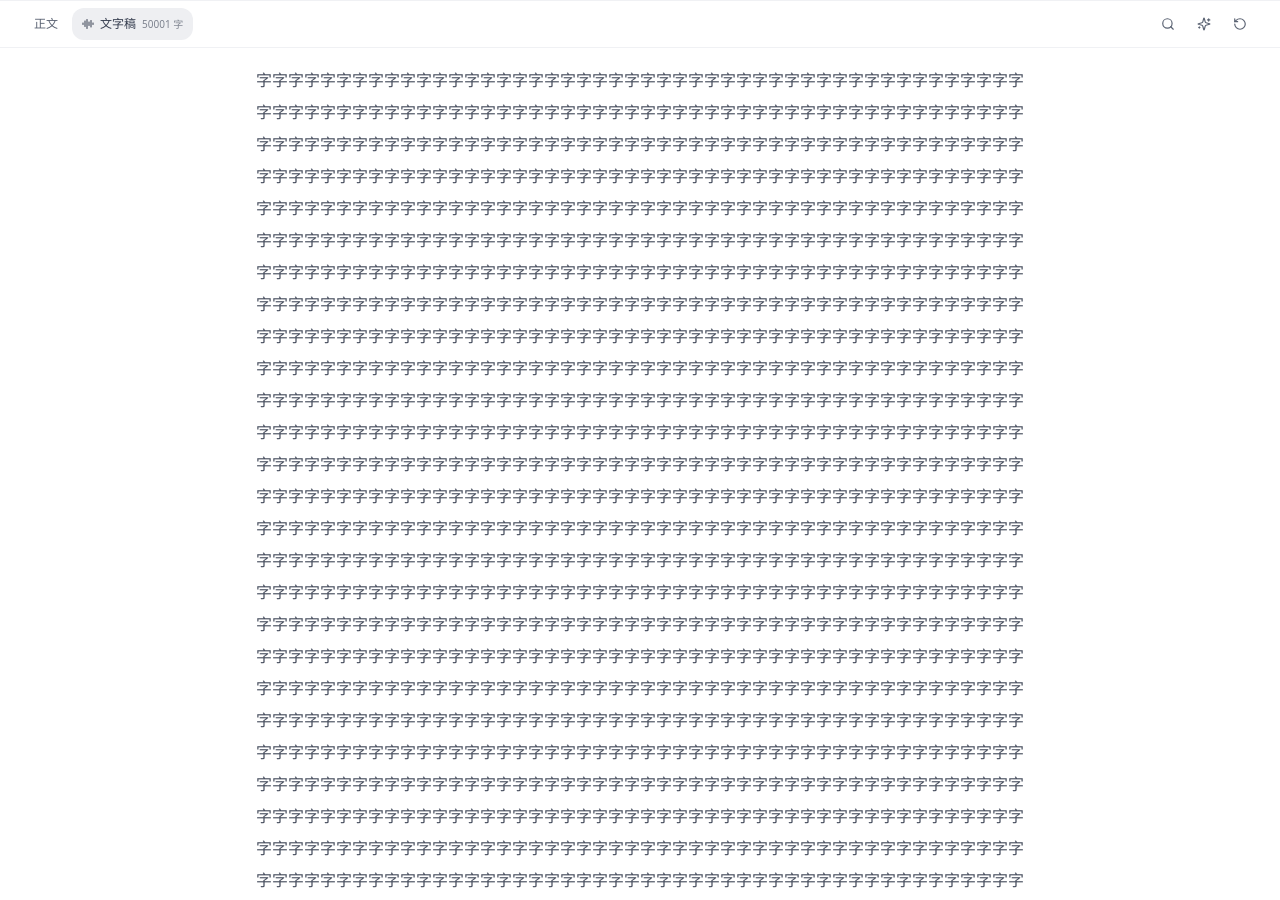
Test: 长文字稿的 AI 排版 › 取消就什么也不做
Click the button "文字稿 50001 字": point(133, 24) [72,8,193,40]
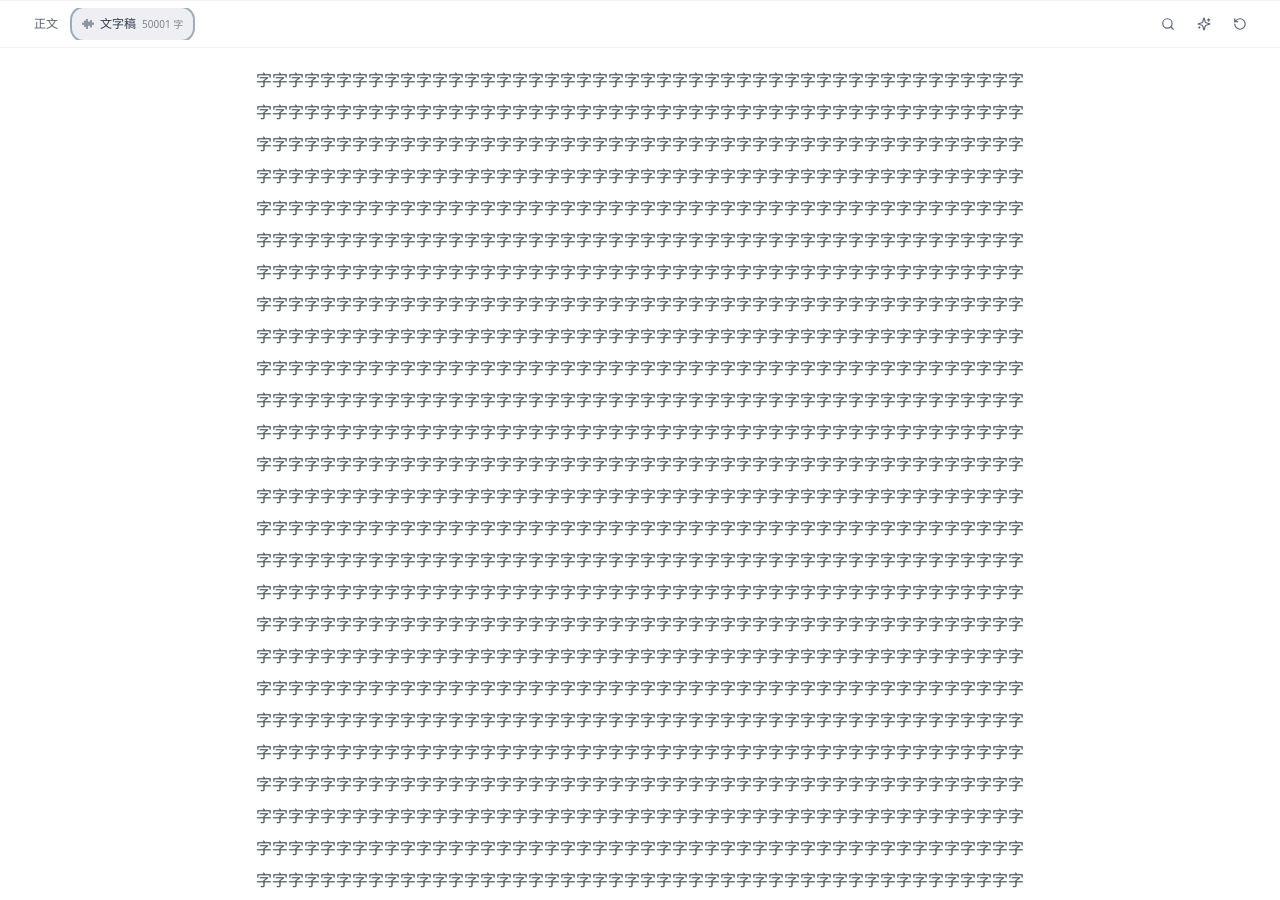
Click the button named "AI 排版": point(1204, 24) [1188,8,1220,40]
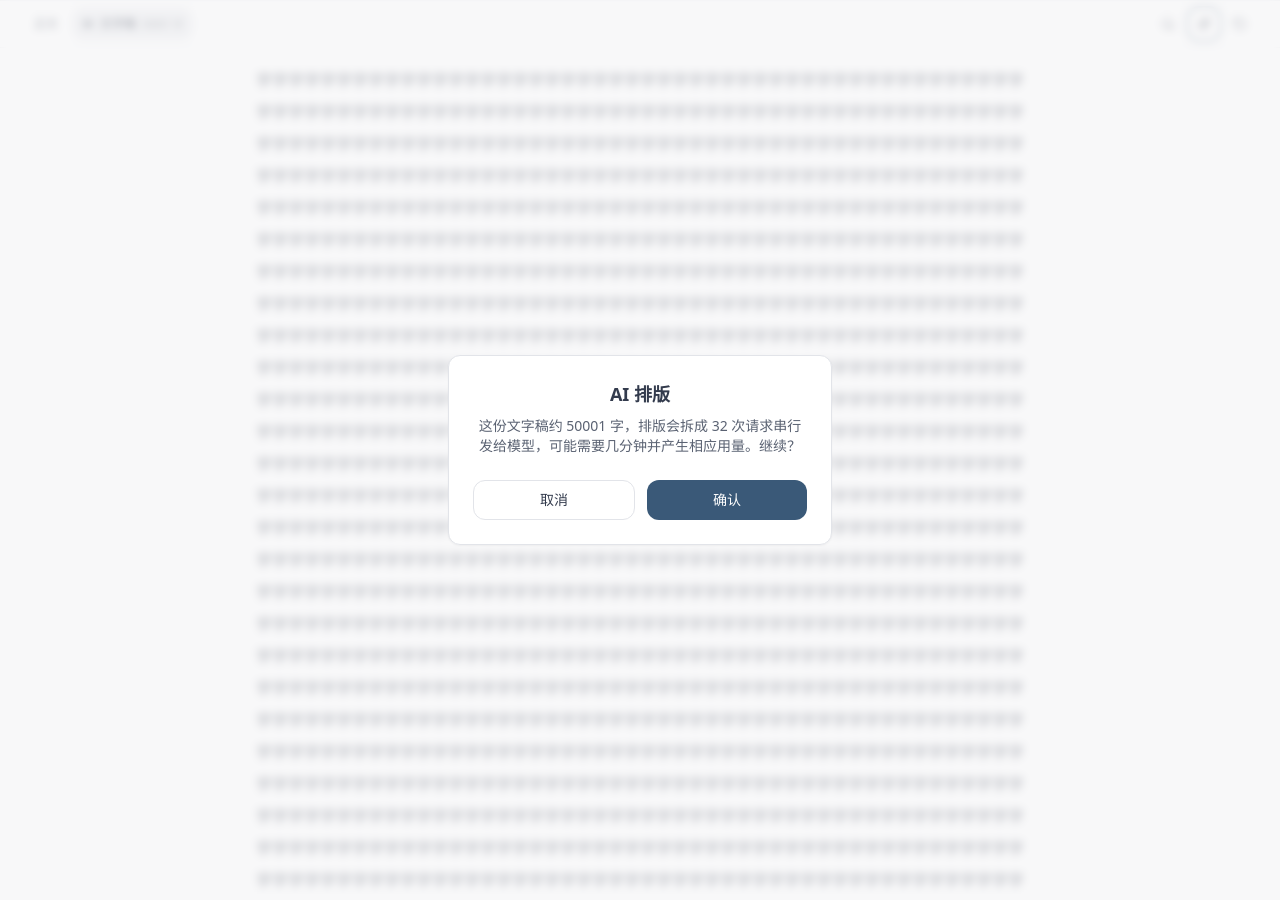
Click the button "取消": point(554, 500) [473,480,635,520]
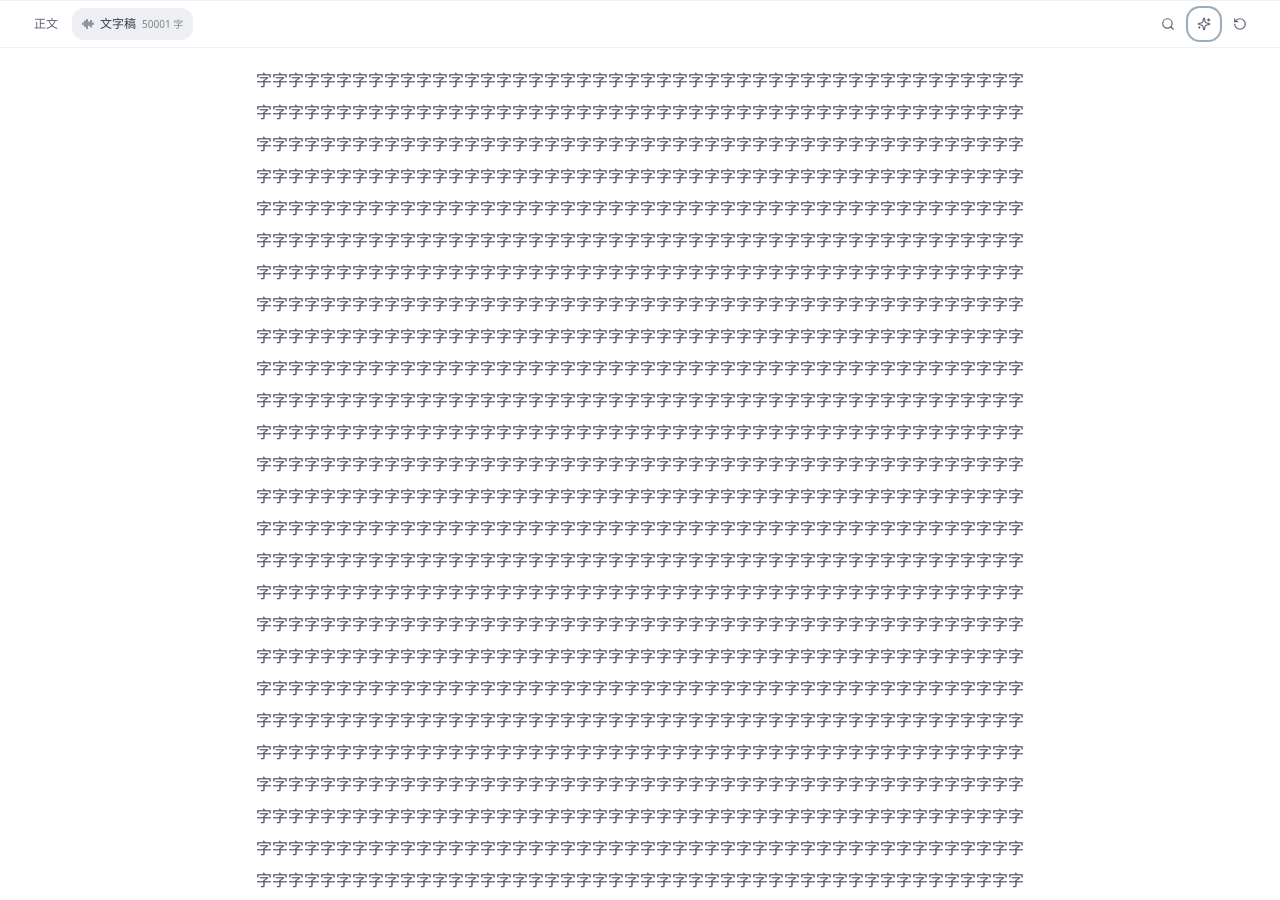
Now the dialog is gone
